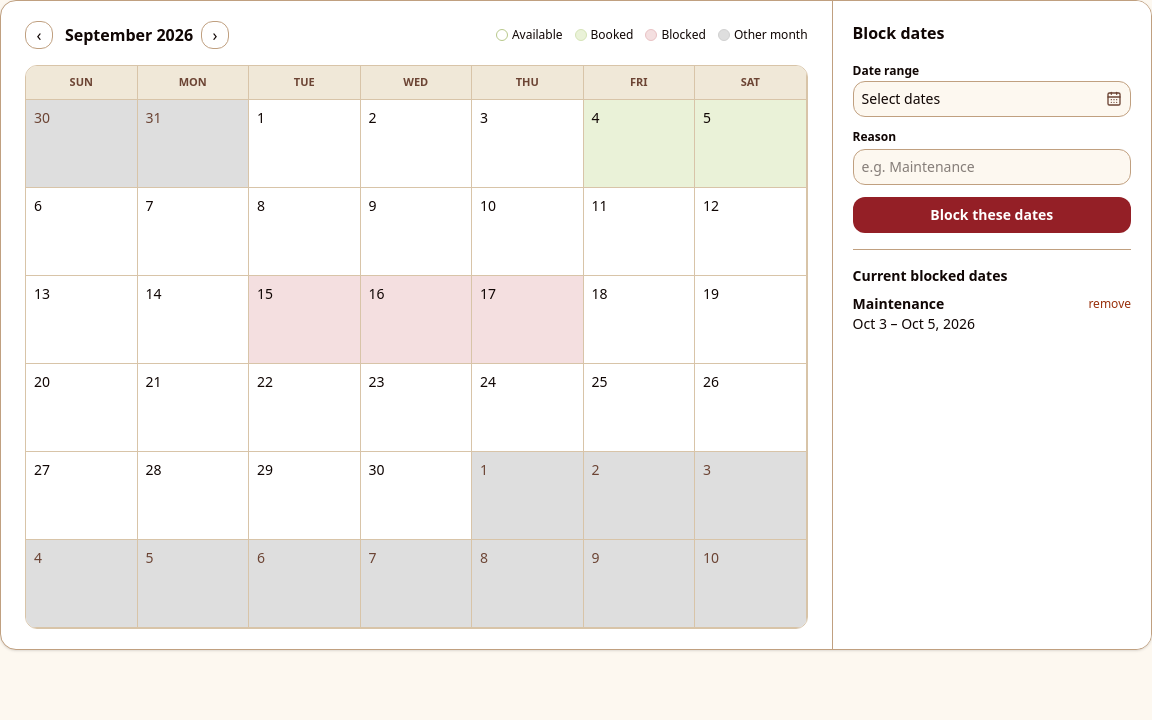
Host calendar and requests › keeps month navigation arrows fixed around a centered month label
Click the button named "Previous month". click: (39, 35)
box: [25, 21, 53, 49]
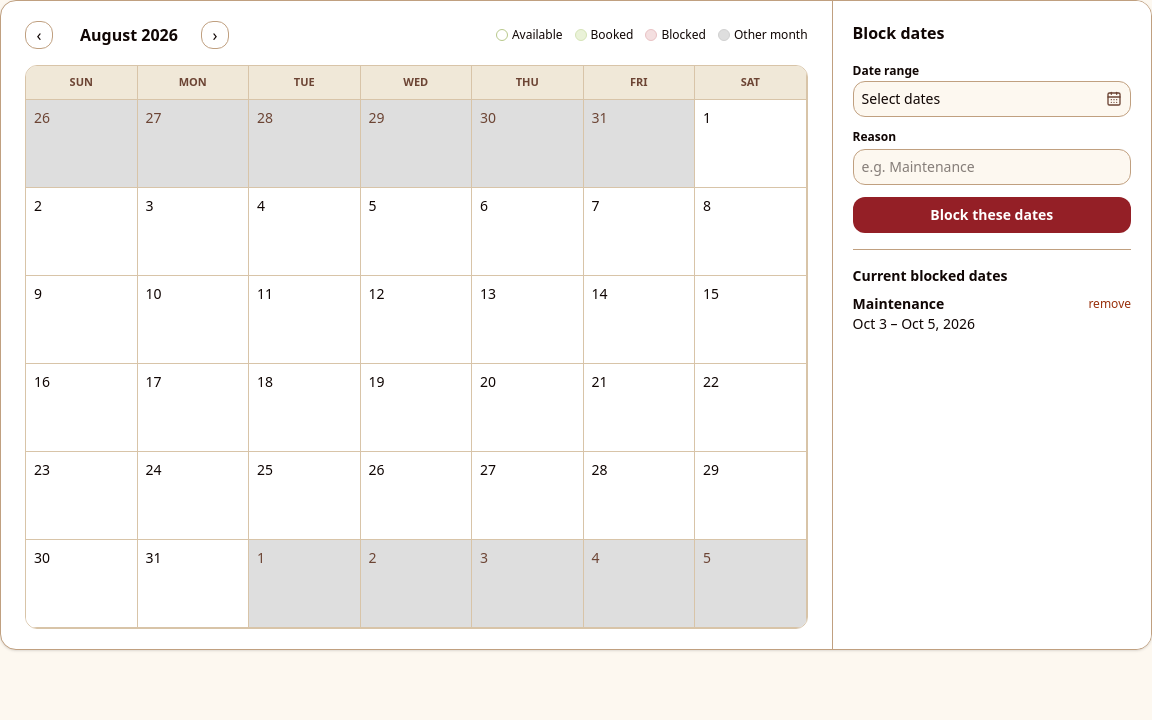
Click the button named "Previous month". click: (39, 35)
box: [25, 21, 53, 49]
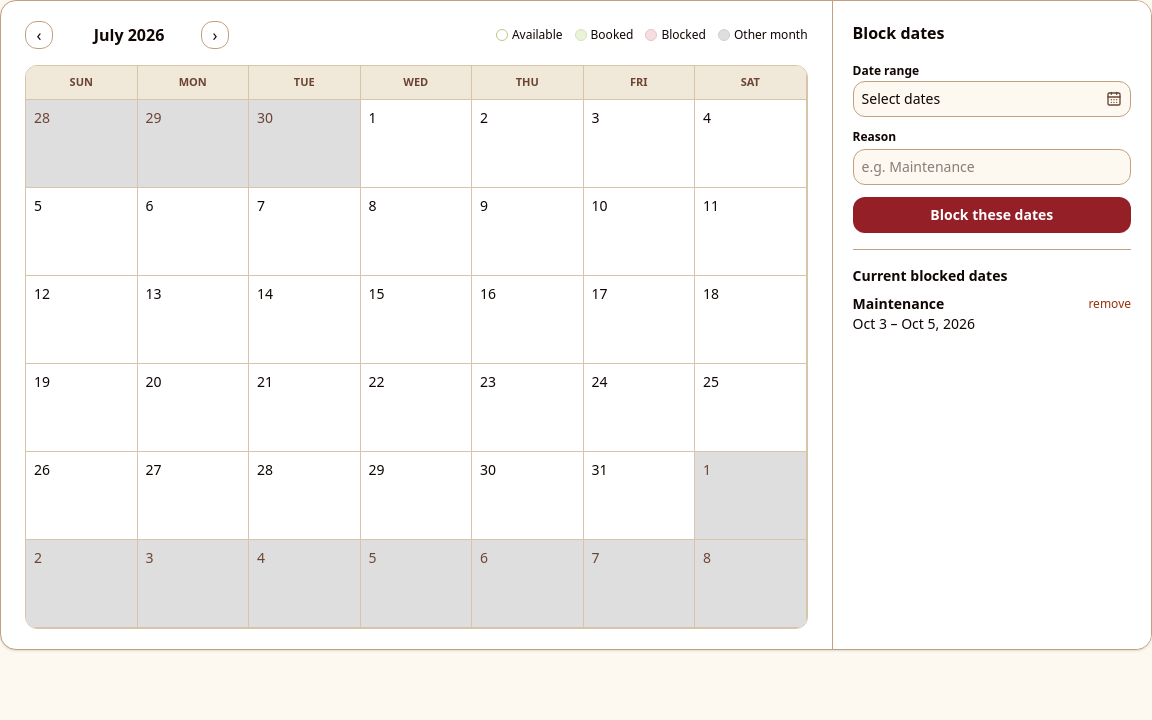
Click the button named "Previous month". click: (39, 35)
box: [25, 21, 53, 49]
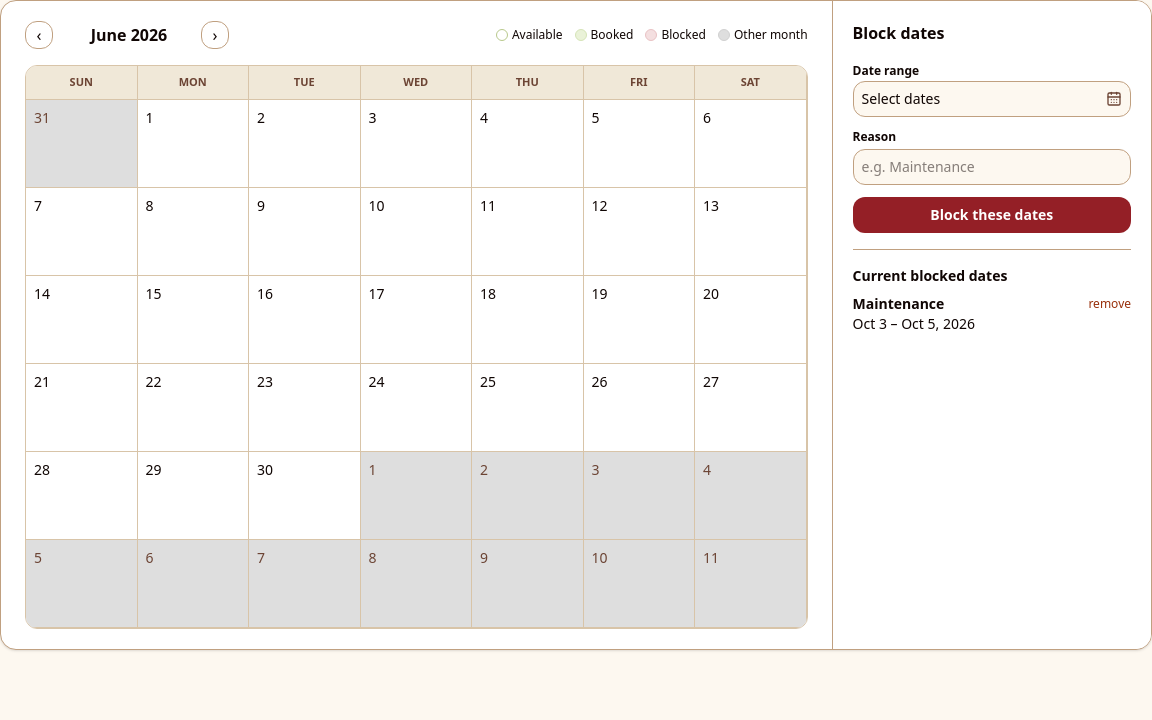
Click the button named "Previous month". click: (39, 35)
box: [25, 21, 53, 49]
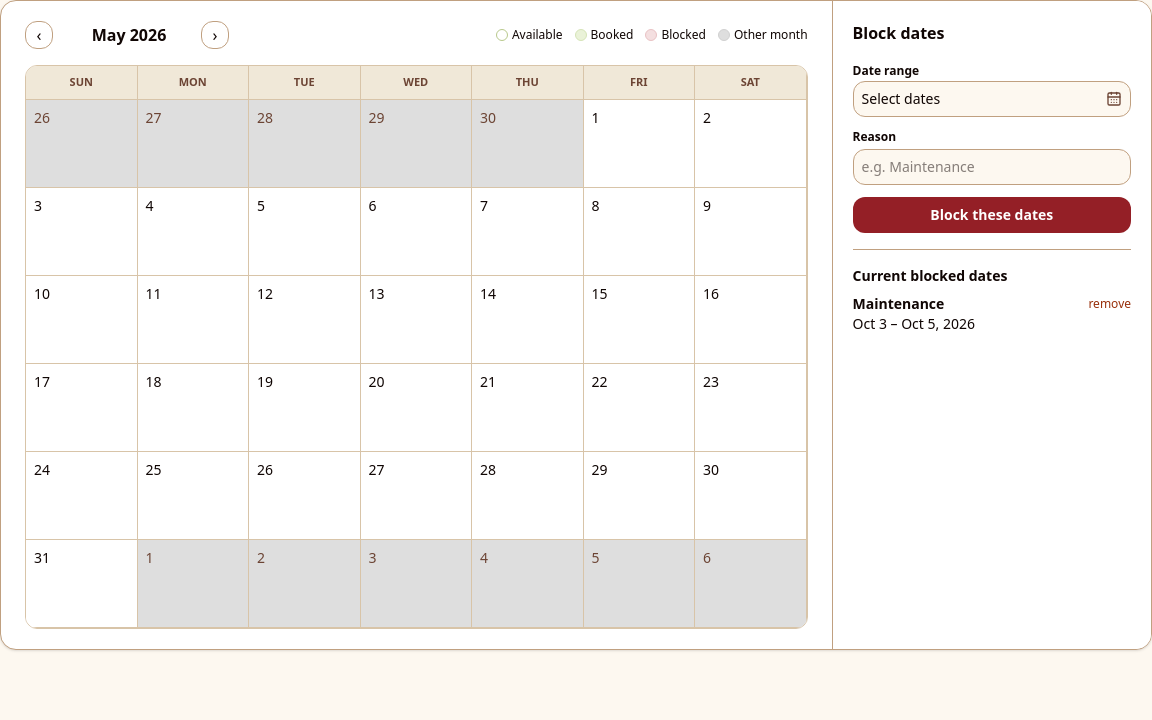
Expected: the heading "May 2026" is shown, [92, 24, 166, 46]
